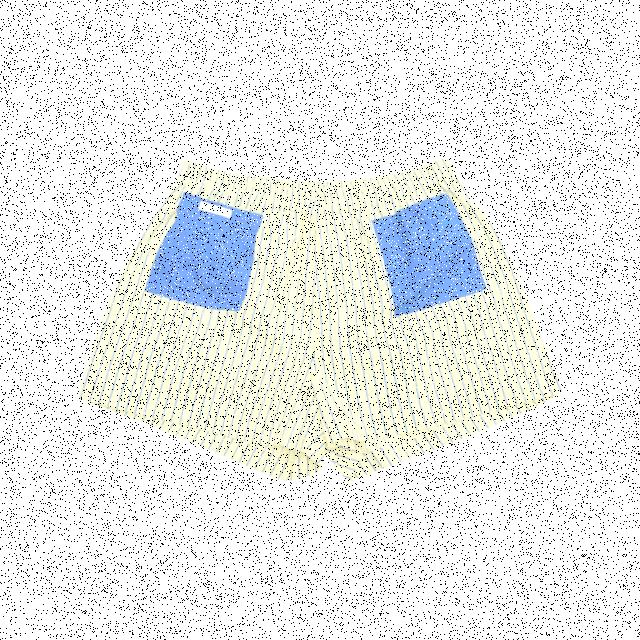dress: (72, 159, 550, 474)
